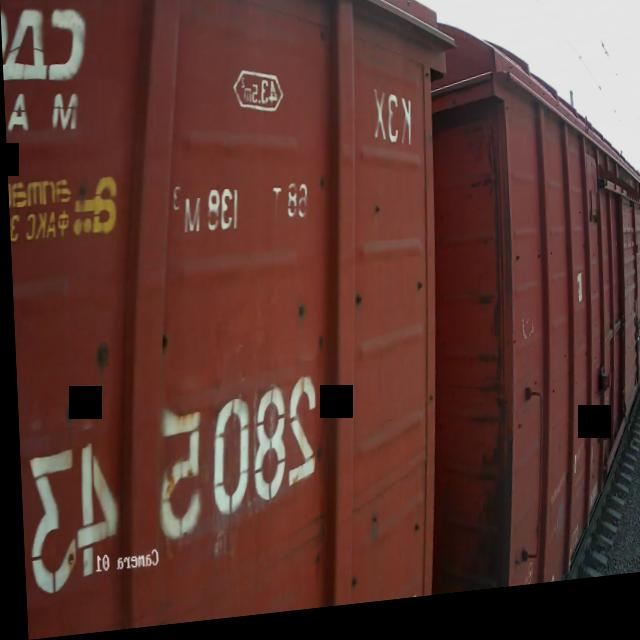boxcar: (0, 0, 474, 640), (418, 0, 640, 604)
